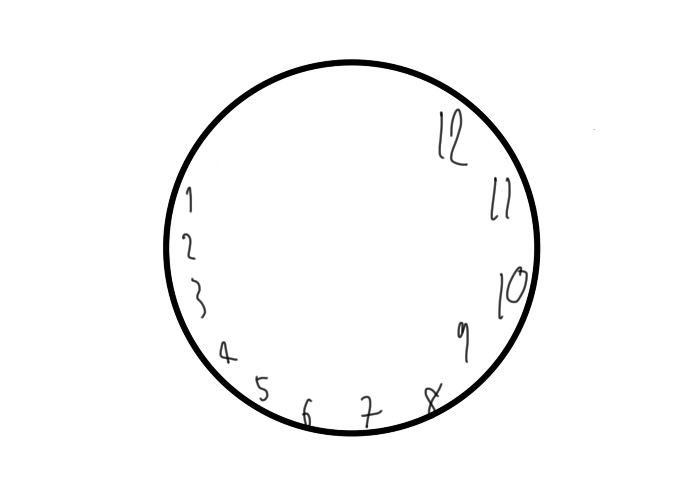eight: (420, 380, 443, 414)
eleven: (486, 168, 514, 226)
five: (253, 372, 271, 403)
four: (218, 338, 239, 367)
nine: (452, 316, 473, 365)
one: (183, 182, 196, 217)
seven: (358, 392, 382, 428)
six: (300, 393, 316, 426)
ten: (495, 263, 529, 318)
three: (187, 273, 210, 322)
twelve: (434, 102, 469, 168)
two: (177, 230, 199, 262)
